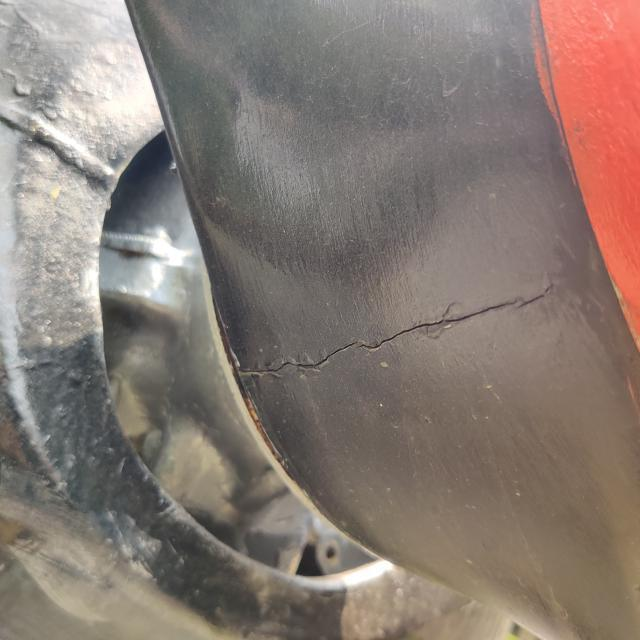Crack: (222, 302, 491, 376)
